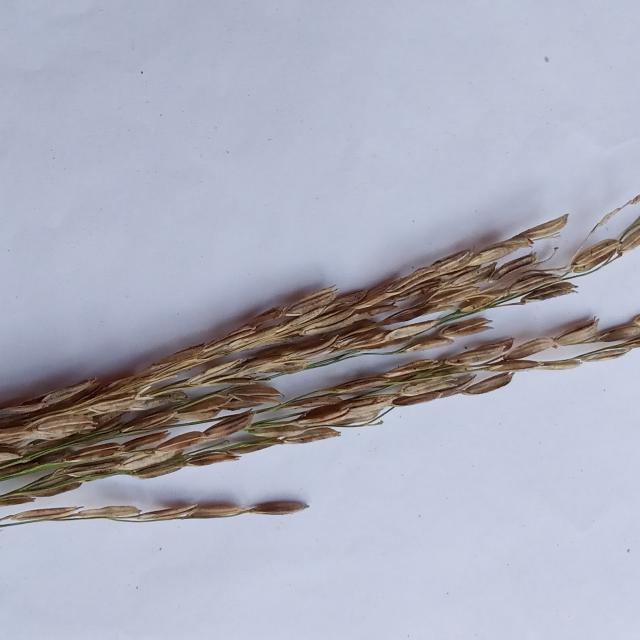Neck_Blast: (0, 211, 634, 452), (2, 303, 640, 520)
